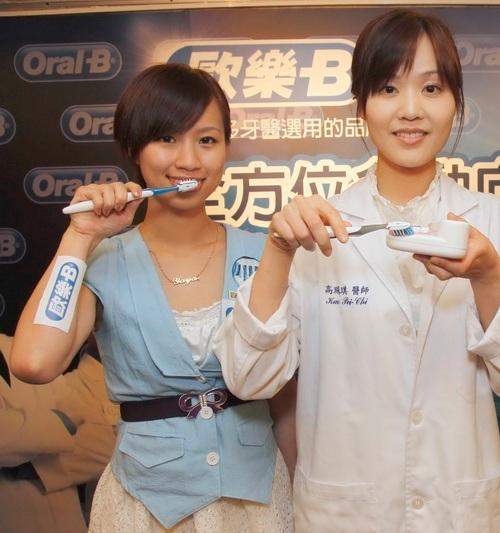person: (10, 61, 298, 533)
